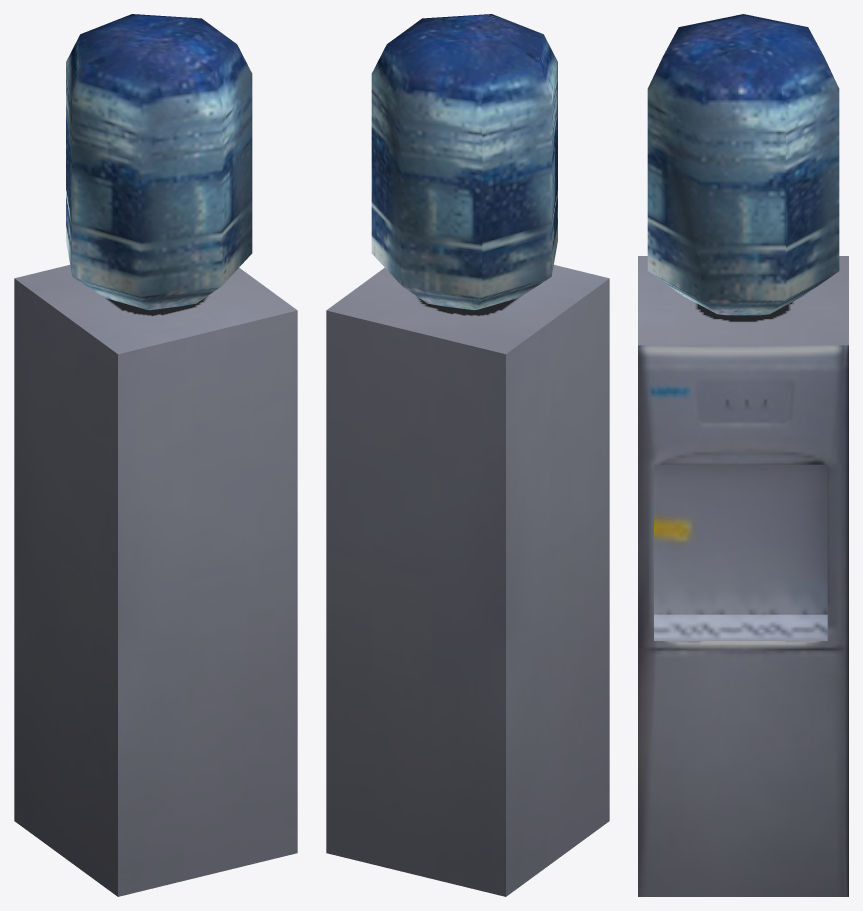
Rendered from Water_dispenser.fbx.
The picture shows the model from 3 angles, left to right: view 1: azimuth 30°, elevation 25°; view 2: azimuth 150°, elevation 25°; view 3: azimuth 270°, elevation 25°; orthographic projection.
Visible parts, largest first — view 1: Water_dispenser; view 2: Water_dispenser; view 3: Water_dispenser.
Boxes of the visible parts, x1,y1,x2,y2 form: Water_dispenser: (14,14,297,896); Water_dispenser: (326,14,609,896); Water_dispenser: (638,14,848,896).
Size of the model in its own units: 45.51 by 194 by 45.51.
